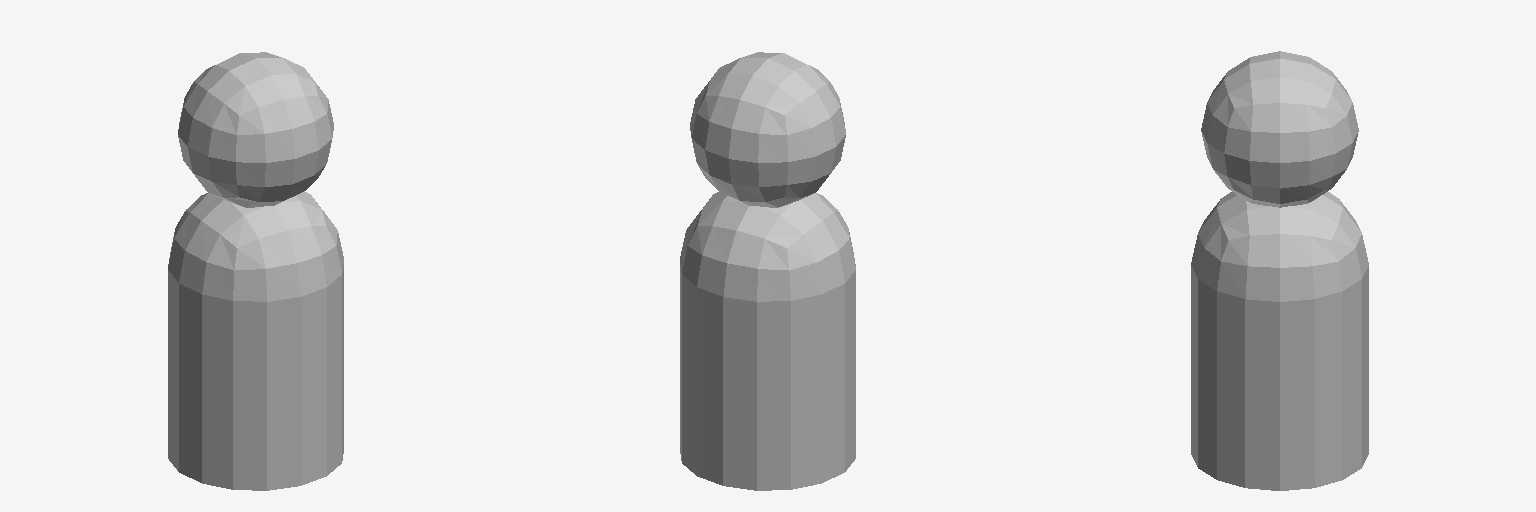
File: peg_person.obj
3 renders of one model, left to right at view 1: azimuth 30°, elevation 25°; view 2: azimuth 150°, elevation 25°; view 3: azimuth 270°, elevation 25°, orthographic.
Parts seen in each view (by area): view 1: peg_person; view 2: peg_person; view 3: peg_person.
Part boxes in pixels (x1,y1,x2,y2): peg_person: (168,52,343,490); peg_person: (680,52,855,490); peg_person: (1191,51,1368,490).
Bounding box in the file's own units: 0.043 × 0.1051 × 0.043.